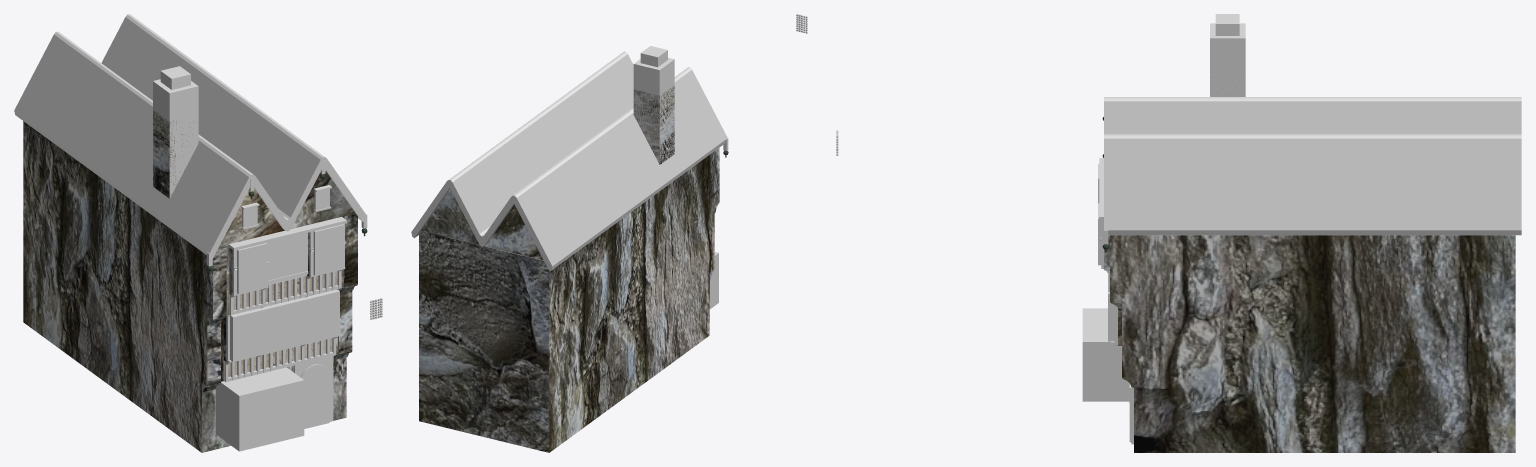
The model's file is Merchants House Middle test.fbx.
3 renders of one model, left to right at view 1: azimuth 30°, elevation 25°; view 2: azimuth 150°, elevation 25°; view 3: azimuth 270°, elevation 25°, orthographic. The views are drawn at different scales.
Visible parts, largest first — view 1: Exteriror, Exteriror.001, Cube.035, Chimney cutout, Cube.010, Door.001, Cube.059, DoorWay, Chimney/fireplace.001; view 2: Exteriror, Chimney cutout, Chimney/fireplace.001, Exteriror.001; view 3: Exteriror, Exteriror.001, Chimney cutout.
Boxes of the visible parts, x1,y1,x2,y2 form: Exteriror: (14, 14, 367, 452); Exteriror.001: (215, 367, 304, 451); Cube.035: (230, 289, 339, 361); Chimney cutout: (153, 79, 198, 198); Cube.010: (237, 224, 343, 294); Door.001: (300, 364, 329, 428); Cube.059: (268, 233, 307, 280); DoorWay: (293, 356, 333, 421); Chimney/fireplace.001: (160, 66, 190, 89); Exteriror: (411, 51, 728, 452); Chimney cutout: (633, 57, 674, 164); Chimney/fireplace.001: (640, 46, 667, 67); Exteriror.001: (709, 252, 718, 309); Exteriror: (1099, 88, 1521, 452); Exteriror.001: (1082, 308, 1129, 401); Chimney cutout: (1210, 23, 1245, 96).
Bounding box in the file's own units: 826 × 1709 × 2872.
